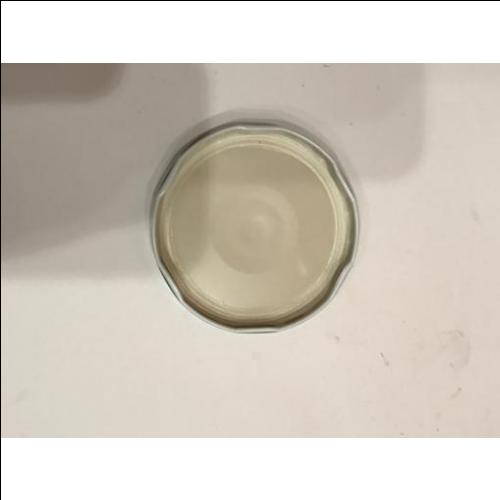metal: (149, 122, 359, 332)
